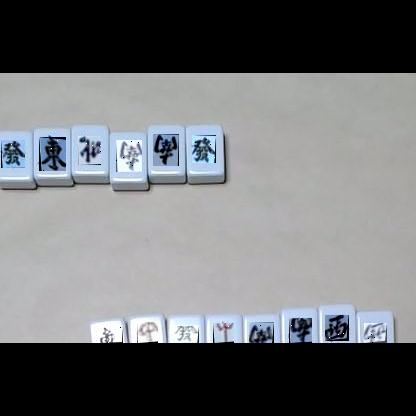1z: (39, 137, 66, 171), (97, 325, 123, 343)
2z: (153, 134, 179, 166), (116, 140, 142, 172), (289, 318, 312, 343), (249, 322, 274, 343)
3z: (325, 315, 349, 341), (364, 323, 387, 343)
4z: (78, 136, 101, 165)
6z: (192, 135, 216, 163), (1, 140, 25, 168), (173, 325, 199, 343)
7z: (137, 322, 158, 343), (213, 323, 234, 343)
